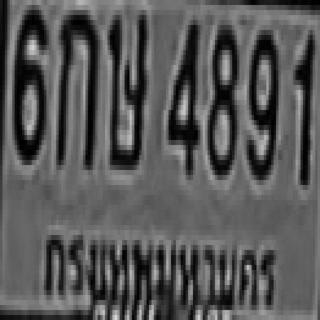A01: (54, 5, 95, 165)
A39: (108, 5, 146, 165)
N01: (293, 30, 313, 180)
N04: (166, 12, 198, 172)
N06: (11, 0, 45, 160)
N08: (205, 20, 237, 175)
N09: (244, 25, 276, 175)
P04: (41, 224, 277, 314)
